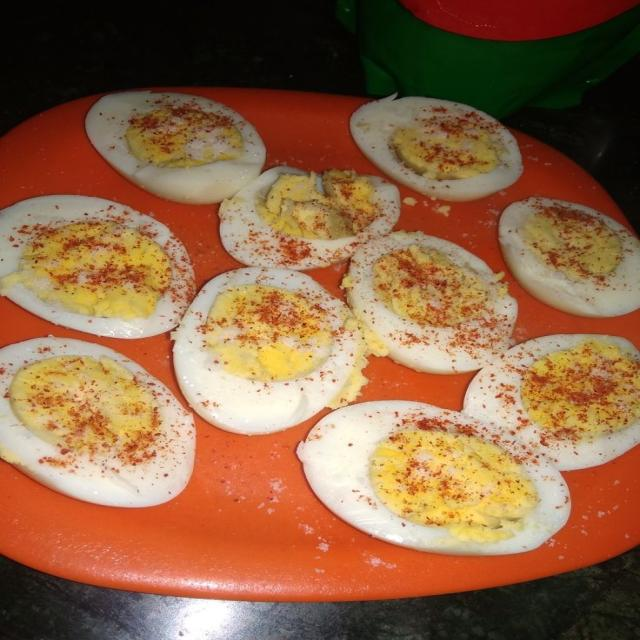eggs: (24, 95, 640, 530)
